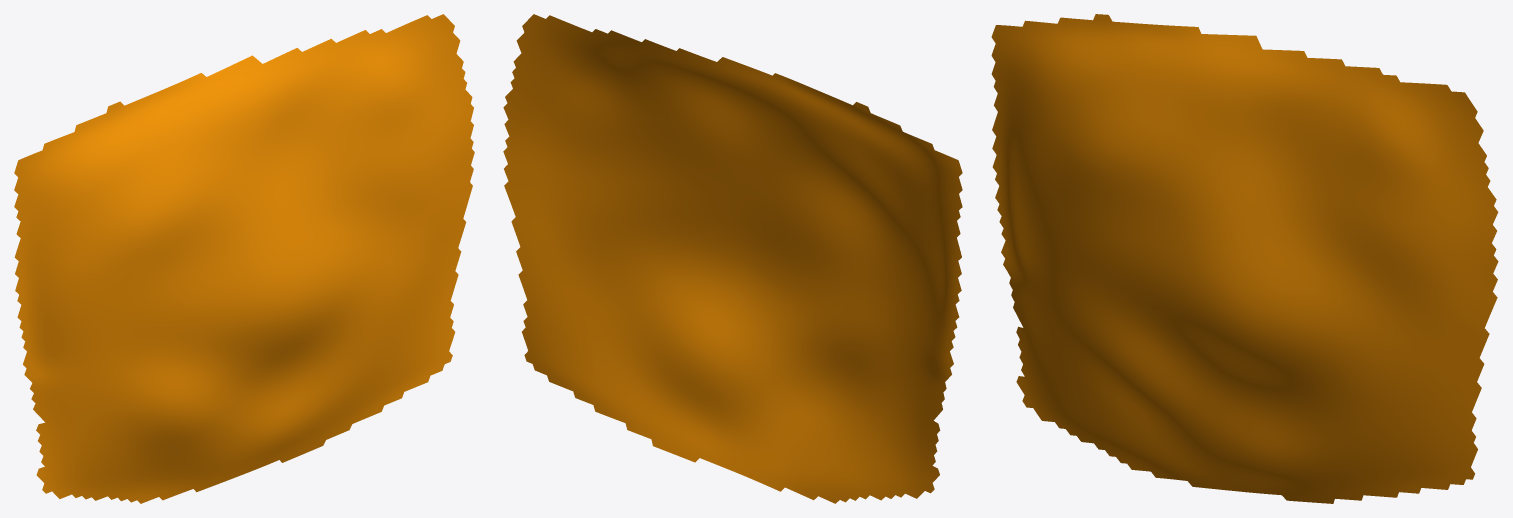
File: SM_GPUI_seederground_80.fbx
3 renders of one model, left to right at view 1: azimuth 30°, elevation 25°; view 2: azimuth 150°, elevation 25°; view 3: azimuth 330°, elevation 25°, orthographic. The views are drawn at different scales.
Visible parts, largest first — view 1: SM_GPUI_seederground_80; view 2: SM_GPUI_seederground_80; view 3: SM_GPUI_seederground_80.
Boxes of the visible parts, x1=… form: SM_GPUI_seederground_80: x1=14, y1=14, x2=474, y2=503; SM_GPUI_seederground_80: x1=503, y1=14, x2=962, y2=503; SM_GPUI_seederground_80: x1=991, y1=14, x2=1498, y2=503.
Size of the model in its own units: 4547 by 3987 by 432.
1 material, 1 textured.
